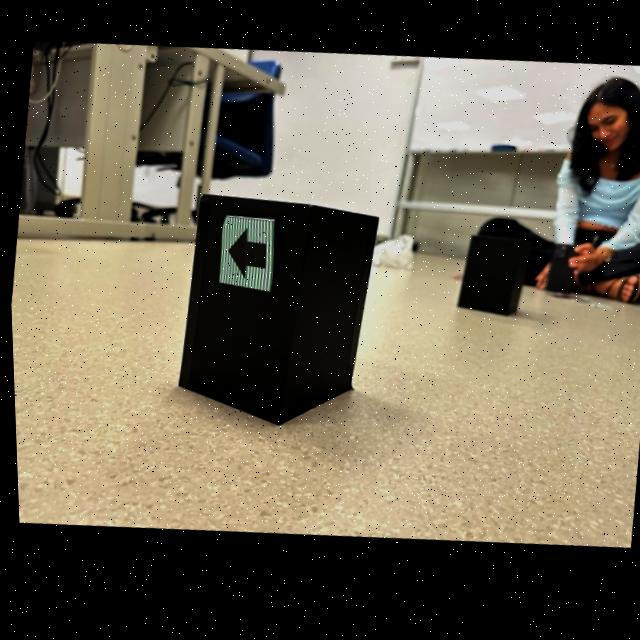LEFT: (225, 234, 263, 281)
